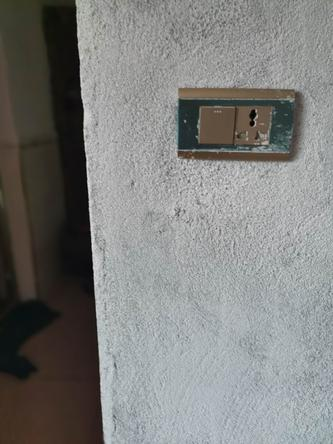switch: (194, 100, 237, 146)
